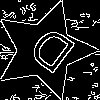D: (19, 25, 78, 83)
